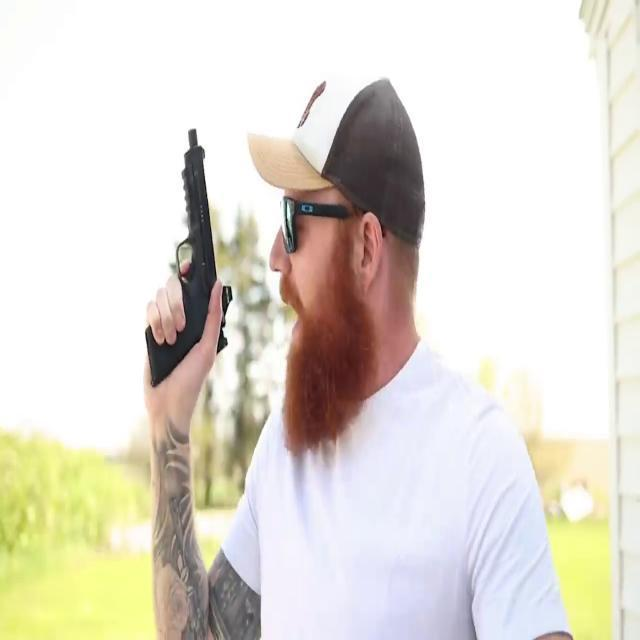Handgun: (142, 100, 234, 400)
